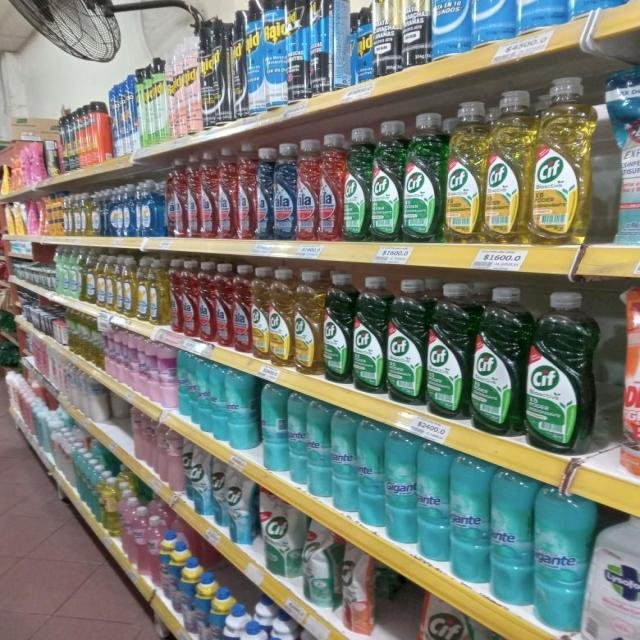ala_conc_azul: (274, 142, 296, 240), (256, 146, 273, 242)
ala_conc_rojo: (320, 133, 344, 242), (296, 136, 320, 242), (237, 145, 255, 240), (218, 147, 236, 240), (200, 150, 218, 240), (232, 265, 250, 353), (167, 158, 184, 238), (215, 263, 231, 348), (180, 260, 197, 338), (198, 262, 214, 342), (186, 154, 199, 238), (170, 258, 180, 335)
ala_crem_rosado: (622, 283, 640, 485)
cif_conc_bot_amarilla: (531, 74, 592, 245), (486, 88, 530, 244), (445, 98, 485, 245), (294, 269, 322, 375), (270, 267, 293, 367), (252, 266, 268, 360)
cif_conc_botella_verde: (525, 289, 593, 454), (471, 286, 523, 436), (426, 280, 470, 419), (404, 111, 444, 243), (387, 277, 424, 406), (352, 275, 386, 395), (371, 120, 402, 242), (323, 272, 351, 384), (344, 126, 370, 242)
cif_conc_sachet_amarillo: (417, 601, 468, 640)
heroe: (491, 470, 532, 607), (451, 453, 488, 585), (417, 442, 449, 564), (385, 430, 416, 546)
magistral_con_amarillo: (150, 258, 167, 326), (136, 256, 149, 322), (123, 256, 136, 317), (84, 252, 96, 304), (89, 191, 102, 237), (106, 253, 116, 311), (96, 252, 105, 308), (116, 254, 124, 316), (74, 193, 85, 237)
magistral_con_azul: (140, 180, 156, 238), (108, 187, 122, 237), (124, 183, 135, 237)
